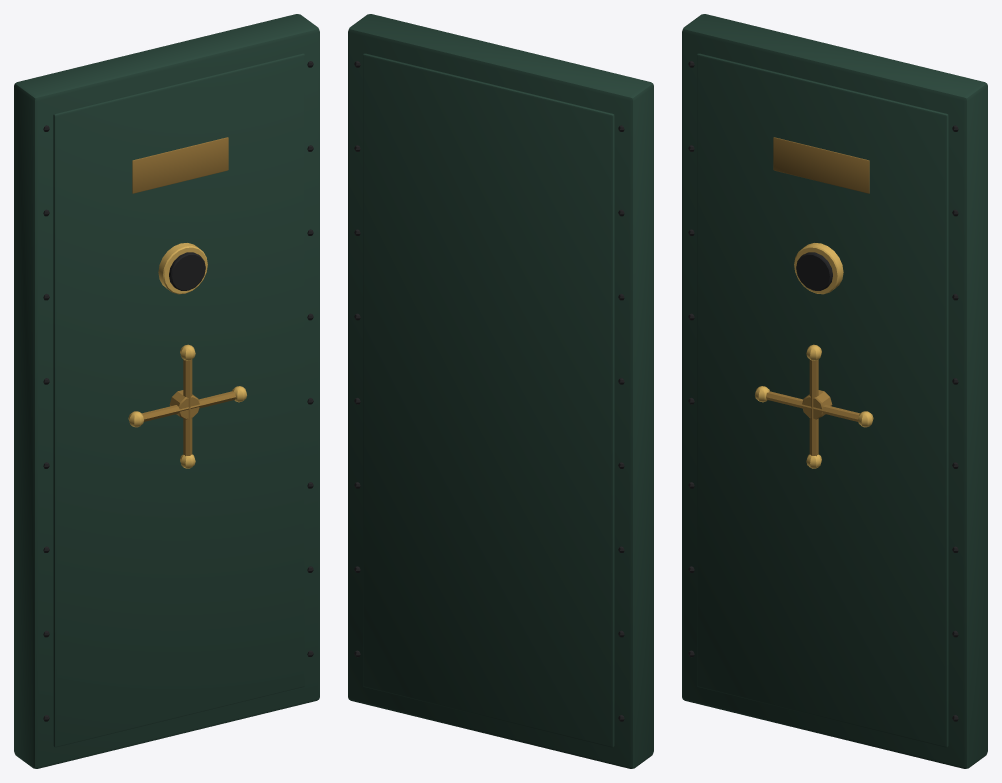
The model's file is mae_strongroom_door.glb.
3 views of the same model, side by side, from view 1: azimuth 30°, elevation 25°; view 2: azimuth 150°, elevation 25°; view 3: azimuth 330°, elevation 25° (orthographic).
Visible parts, largest first — view 1: mae_strongroom_door; view 2: mae_strongroom_door; view 3: mae_strongroom_door.
Boxes of the visible parts, x1,y1,x2,y2 form: mae_strongroom_door: (14,14,319,768); mae_strongroom_door: (348,14,653,768); mae_strongroom_door: (682,14,987,768).
Bounding box in the file's own units: 0.892 × 2 × 0.206.
